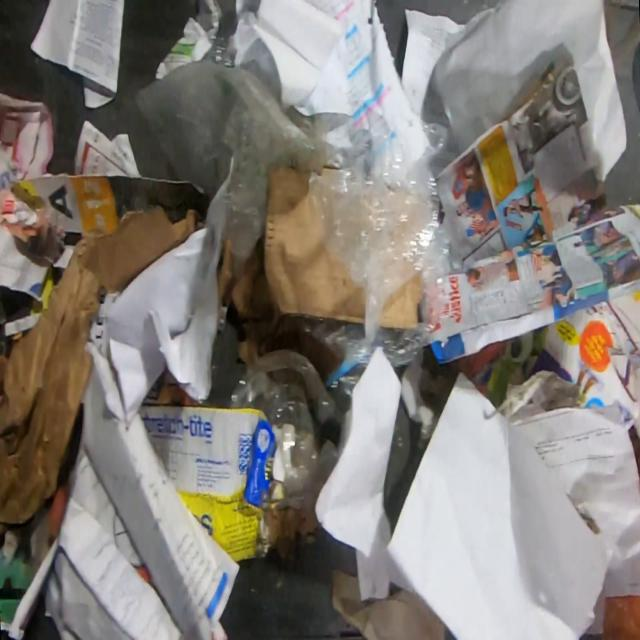cardboard: (0, 205, 204, 535), (137, 404, 286, 564), (12, 172, 212, 272), (262, 164, 365, 322), (380, 270, 422, 327)
rigid_plastic: (228, 348, 351, 511)
soft_plastic: (133, 58, 367, 312), (298, 122, 454, 415), (602, 592, 640, 640)
